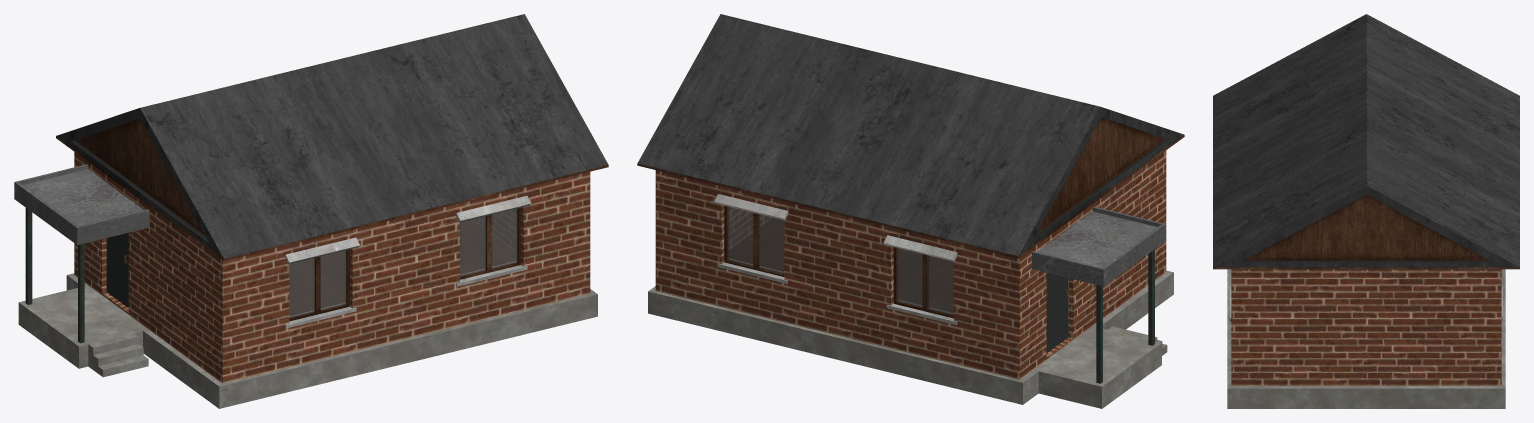
File: house5.glb
3 views of the same model, side by side, from view 1: azimuth 30°, elevation 25°; view 2: azimuth 150°, elevation 25°; view 3: azimuth 270°, elevation 25° (orthographic). The views are drawn at different scales.
Visible parts, largest first — view 1: House_Roof_0, House_Bricks_0, House_Concrete_0, House_Wood_0, House_Glass_0, House_Other_0, House_Door_0; view 2: House_Roof_0, House_Bricks_0, House_Concrete_0, House_Wood_0, House_Glass_0, House_Other_0, House_Door_0; view 3: House_Roof_0, House_Bricks_0, House_Wood_0, House_Concrete_0.
Part boxes in pixels (x1,y1,x2,y2): House_Roof_0: (14, 14, 608, 258); House_Bricks_0: (74, 152, 590, 383); House_Concrete_0: (18, 273, 597, 408); House_Wood_0: (56, 118, 608, 321); House_Glass_0: (289, 208, 517, 318); House_Other_0: (25, 195, 530, 343); House_Door_0: (106, 232, 128, 307); House_Roof_0: (638, 14, 1183, 286); House_Bricks_0: (655, 150, 1166, 379); House_Concrete_0: (648, 270, 1173, 408); House_Wood_0: (637, 117, 1184, 318); House_Glass_0: (727, 206, 953, 315); House_Other_0: (714, 194, 1154, 383); House_Door_0: (1046, 273, 1068, 352); House_Roof_0: (1213, 14, 1519, 267); House_Bricks_0: (1231, 269, 1501, 385); House_Wood_0: (1213, 195, 1519, 269); House_Concrete_0: (1227, 269, 1505, 408).
Bounding box in the file's own units: 9.54 × 5 × 6.18.
7 materials, 7 textured.
